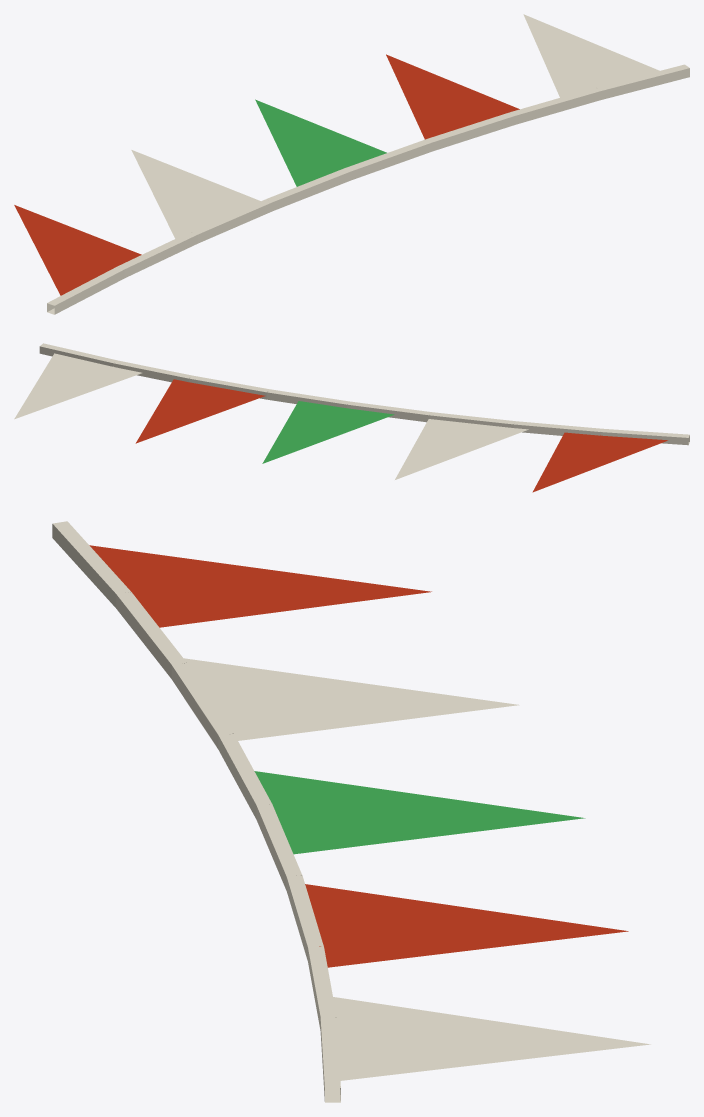
The model's file is keep-wd01_80.obj.
3 views of the same model, one above another, from view 1: azimuth 30°, elevation 25°; view 2: azimuth 150°, elevation 25°; view 3: azimuth 270°, elevation 25° (orthographic). The views are drawn at different scales.
Size of the model in its own units: 1 by 0.012 by 0.4475.
1 material, 1 textured.
